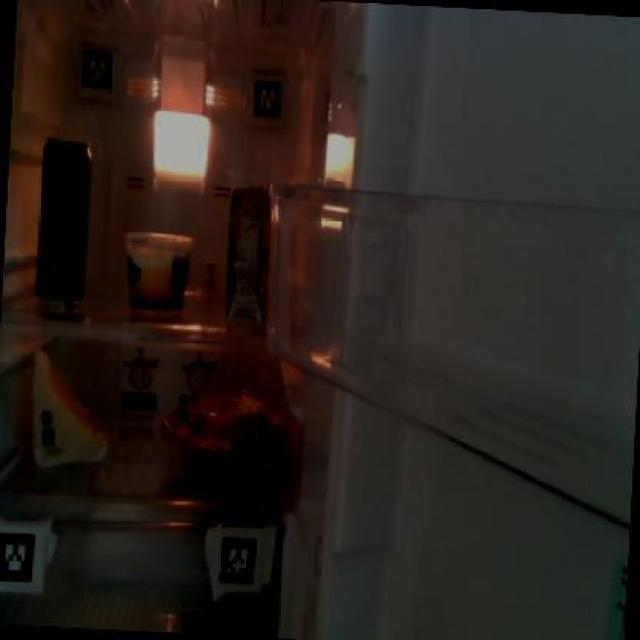bento: (158, 391, 288, 475)
energy_drink: (32, 130, 93, 305)
pudding: (114, 228, 194, 310)
sandwich: (24, 339, 114, 473)
smoothie: (220, 167, 275, 331)
